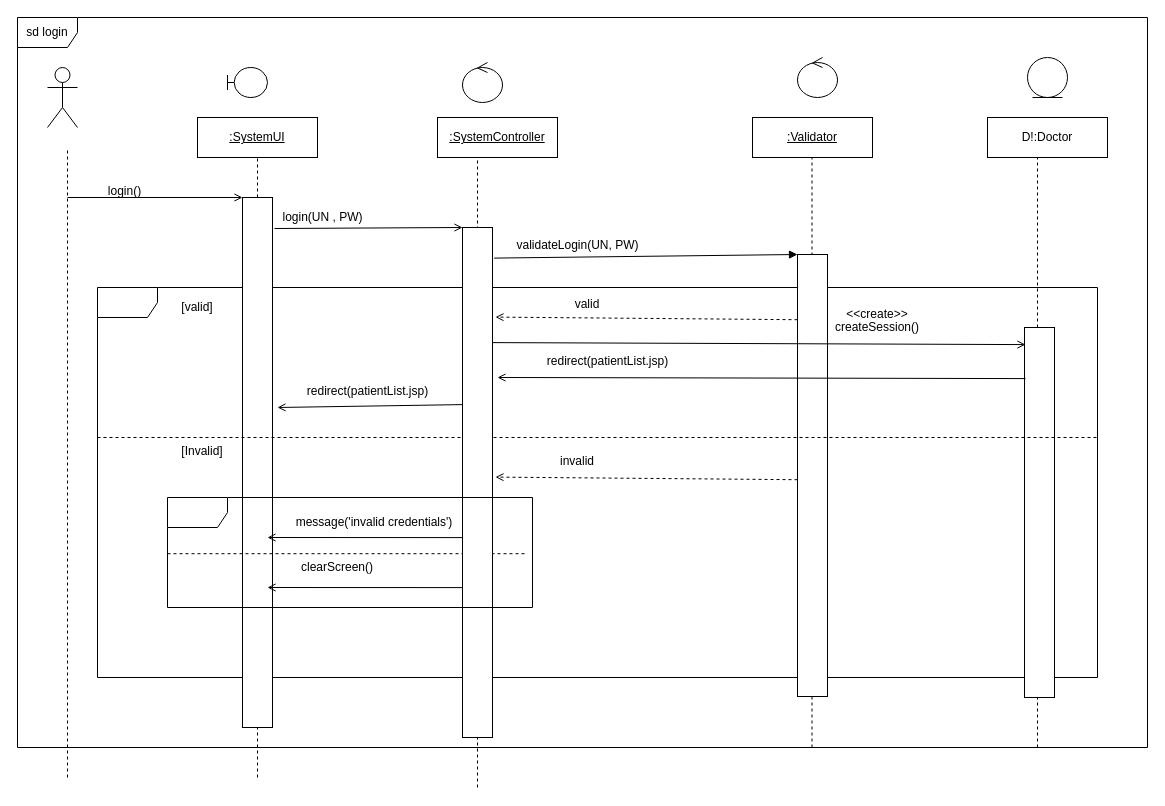
Some shapes in this 1165 by 806 pixel diagram are drawn without their labels. The shapes that lost their labels are listed below. From the top down, each one's box as (x1, y1, x2, y2) in pixels, then its label:
(46, 66, 78, 128): Reseptionist
(96, 286, 1098, 678): Alt
(166, 496, 532, 608): Par
